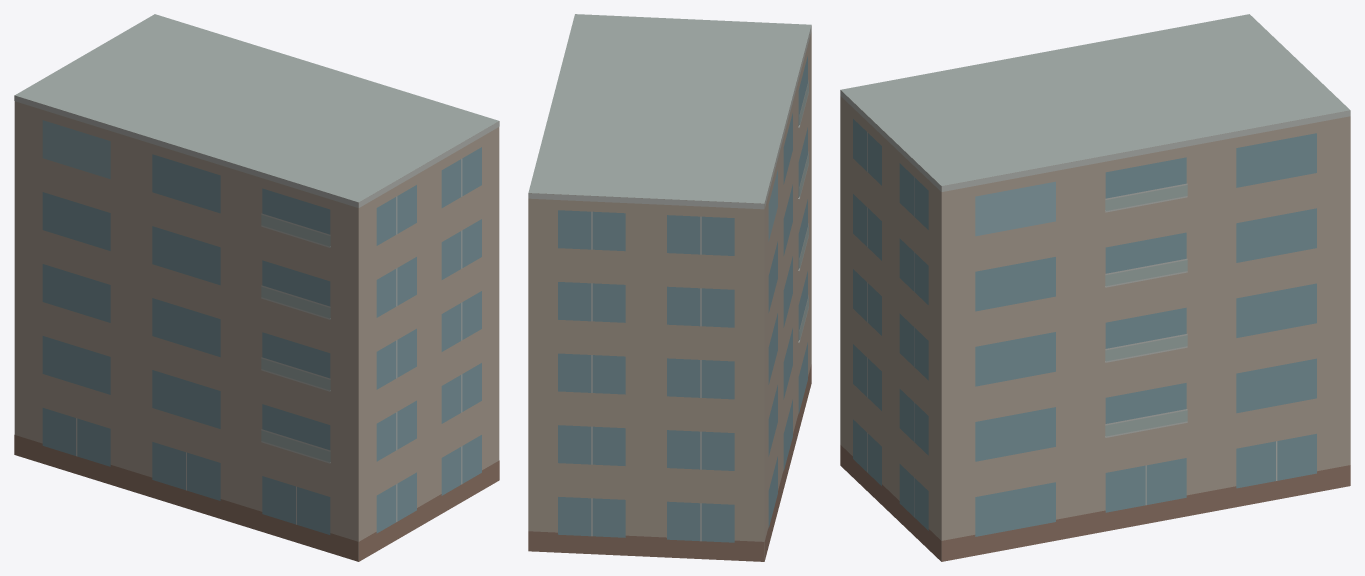
Rendered from survey-upis-33013803.glb.
The picture shows the model from 3 angles, left to right: view 1: azimuth 30°, elevation 25°; view 2: azimuth 150°, elevation 25°; view 3: azimuth 270°, elevation 25°; orthographic projection. The views are drawn at different scales.
Visible parts, largest first — view 1: survey-upis-33013803.tmp; view 2: survey-upis-33013803.tmp; view 3: survey-upis-33013803.tmp.
Part boxes in pixels (<box>): survey-upis-33013803.tmp: <box>14,14,499,561</box>; survey-upis-33013803.tmp: <box>528,14,811,561</box>; survey-upis-33013803.tmp: <box>840,14,1350,561</box>.
Bounding box in the file's own units: 15 × 15.25 × 18.78.
